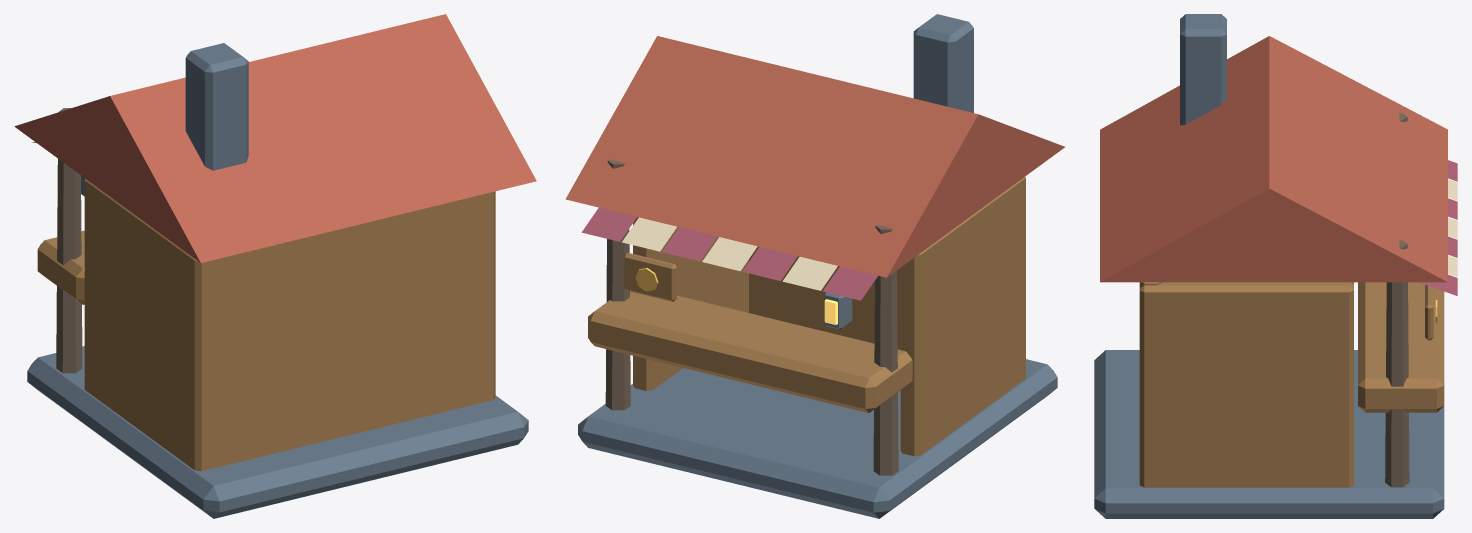
The model's file is loja_mascate.glb.
3 views of the same model, side by side, from view 1: azimuth 30°, elevation 25°; view 2: azimuth 150°, elevation 25°; view 3: azimuth 270°, elevation 25° (orthographic). The views are drawn at different scales.
Parts seen in each view (by area): view 1: pedreira_loja_mascate; view 2: pedreira_loja_mascate; view 3: pedreira_loja_mascate.
Boxes of the visible parts, left/top/right/bottom form: pedreira_loja_mascate: left=14, top=14, right=536, bottom=518; pedreira_loja_mascate: left=565, top=14, right=1064, bottom=518; pedreira_loja_mascate: left=1094, top=14, right=1457, bottom=518.
Size of the model in its own units: 1.92 by 2.26 by 1.93.
